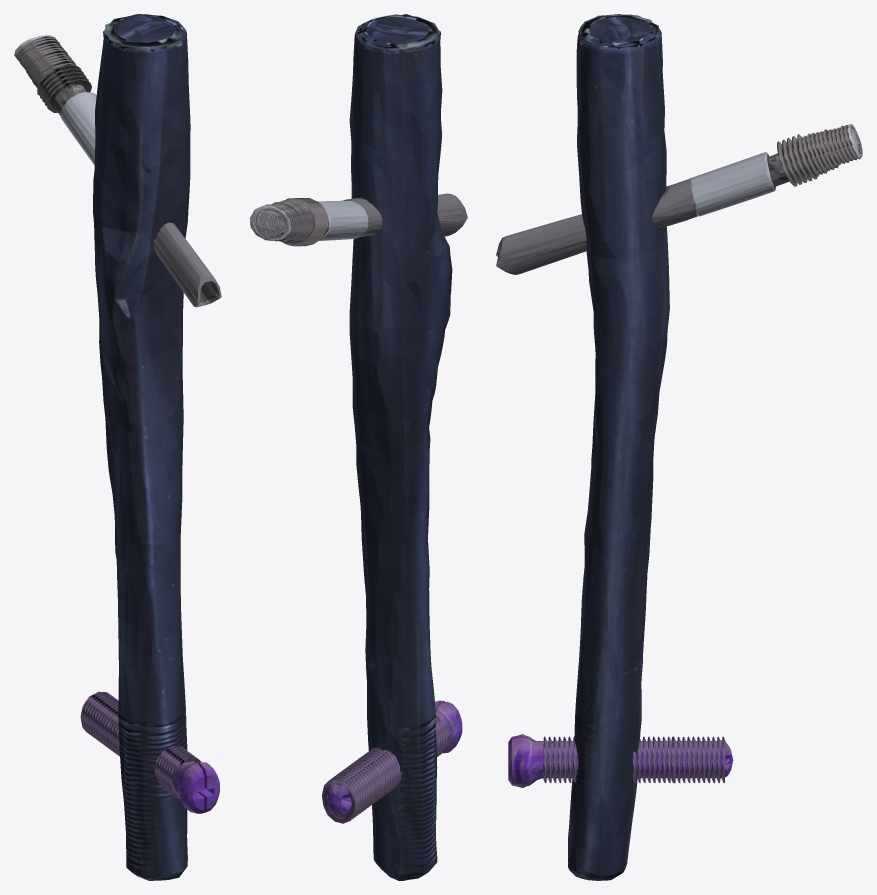
3 views of the same model, side by side, from view 1: azimuth 30°, elevation 25°; view 2: azimuth 150°, elevation 25°; view 3: azimuth 270°, elevation 25° (orthographic).
Parts seen in each view (by area): view 1: tripo_part_5, tripo_part_1 (×2), tripo_part_0, tripo_part_9, tripo_part_3, tripo_part_15; view 2: tripo_part_5, tripo_part_9, tripo_part_10 (×2), tripo_part_3, tripo_part_0, tripo_part_2, tripo_part_1; view 3: tripo_part_5, tripo_part_1 (×3), tripo_part_9, tripo_part_0, tripo_part_8, tripo_part_3, tripo_part_15.
Part boxes in pixels (x1,y1,x2,y2): tripo_part_5: (93, 14, 190, 880); tripo_part_1 (×2): (153, 222, 221, 307); tripo_part_0: (177, 762, 219, 813); tripo_part_9: (60, 85, 96, 164); tripo_part_3: (103, 14, 183, 53); tripo_part_15: (48, 70, 86, 115); tripo_part_5: (349, 16, 452, 880); tripo_part_9: (317, 200, 368, 240); tripo_part_10 (×2): (250, 205, 357, 823); tripo_part_3: (357, 14, 440, 55); tripo_part_0: (435, 700, 462, 753); tripo_part_2: (326, 782, 351, 817); tripo_part_1: (437, 193, 467, 216); tripo_part_5: (568, 16, 669, 880); tripo_part_1 (×3): (496, 214, 721, 778); tripo_part_9: (690, 152, 783, 216); tripo_part_0: (508, 734, 543, 787); tripo_part_8: (652, 178, 695, 227); tripo_part_3: (578, 14, 658, 48); tripo_part_15: (768, 145, 839, 186).
Size of the model in its own units: 0.098 by 0.9385 by 0.3693.
Materials: 76 (76 with a texture image).
